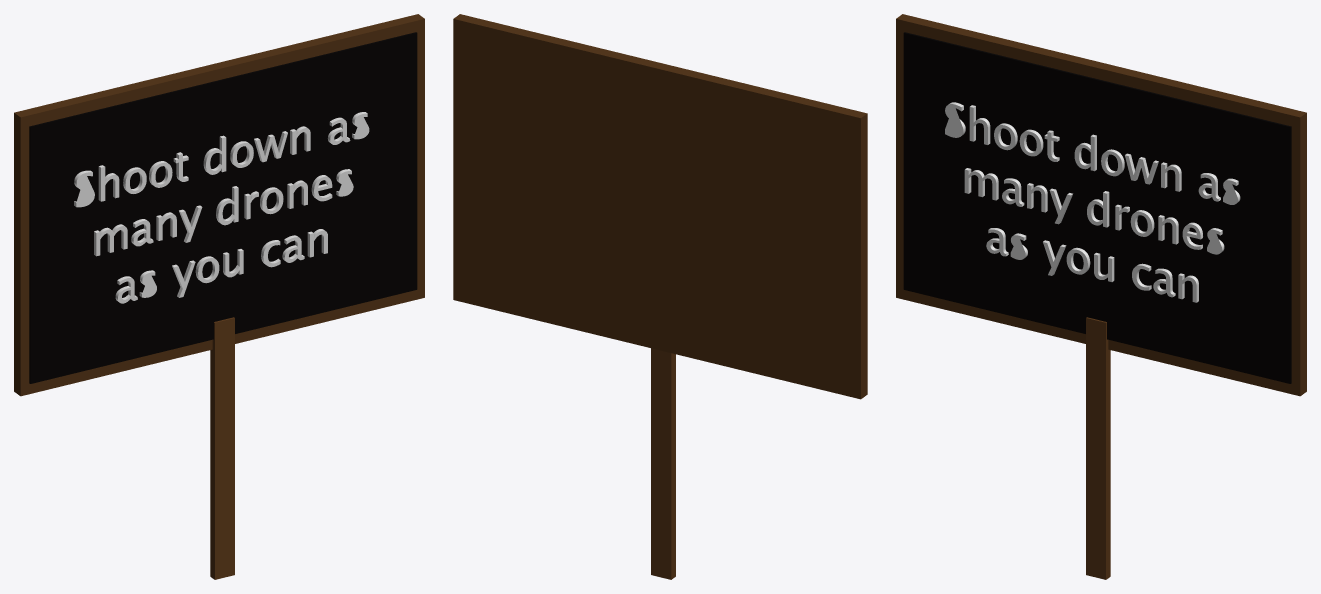
File: TutorialSign4.fbx
3 views of the same model, side by side, from view 1: azimuth 30°, elevation 25°; view 2: azimuth 150°, elevation 25°; view 3: azimuth 330°, elevation 25° (orthographic).
Parts seen in each view (by area): view 1: pCube19; view 2: pCube19; view 3: pCube19.
Boxes of the visible parts, <box> form: pCube19: <box>14,14,424,579</box>; pCube19: <box>453,14,867,579</box>; pCube19: <box>896,14,1306,579</box>.
Bounding box in the file's own units: 154 × 185 × 6.61.
